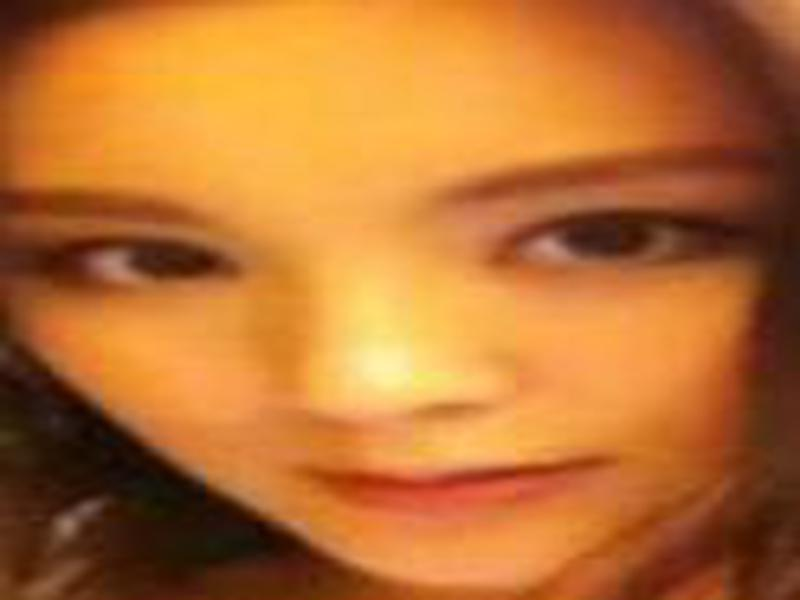without_mask: (4, 42, 800, 587)
